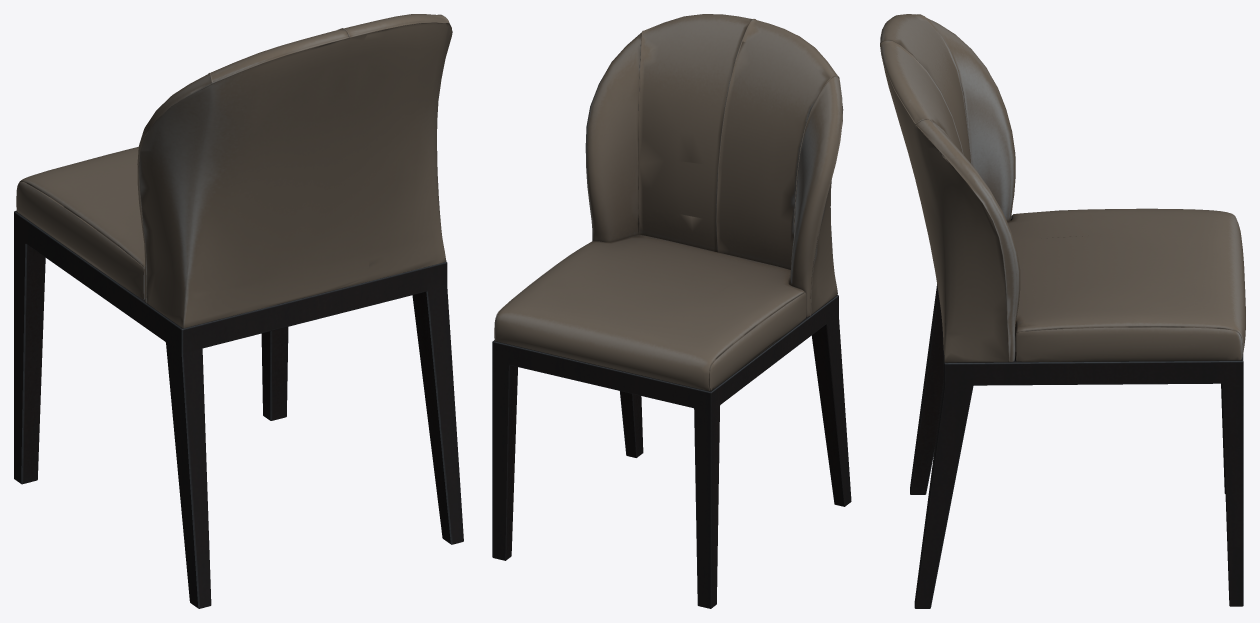
The model's file is chair_chair_0a80fcbc-c40c-5fc4-b726-8b578d70098d.glb.
3 renders of one model, left to right at view 1: azimuth 30°, elevation 25°; view 2: azimuth 150°, elevation 25°; view 3: azimuth 270°, elevation 25°, orthographic. The views are drawn at different scales.
Visible parts, largest first — view 1: raw_model.obj; view 2: raw_model.obj; view 3: raw_model.obj.
Boxes of the visible parts, box(x1,y1,x2,y2) form: raw_model.obj: box(14, 14, 463, 608); raw_model.obj: box(492, 14, 851, 608); raw_model.obj: box(880, 14, 1245, 608).
Bounding box in the file's own units: 0.4455 × 0.7874 × 0.5132.
1 material, 1 textured.
